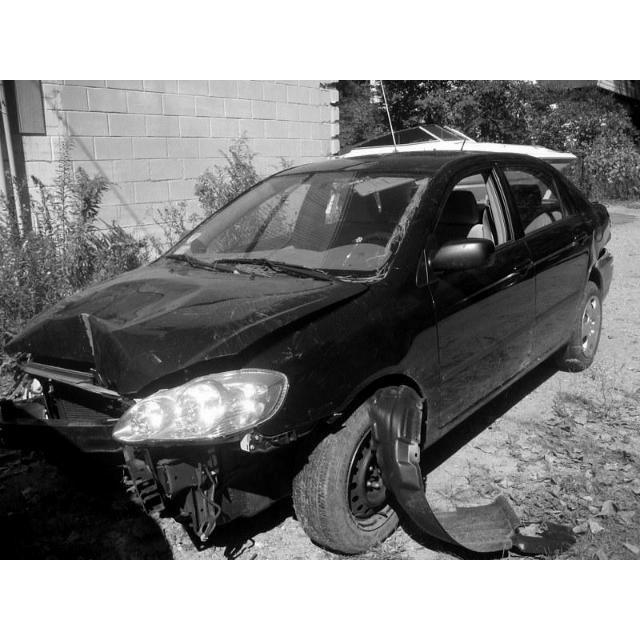bonnet-dent: (25, 259, 273, 371)
front-bumper-dent: (44, 398, 204, 511)
